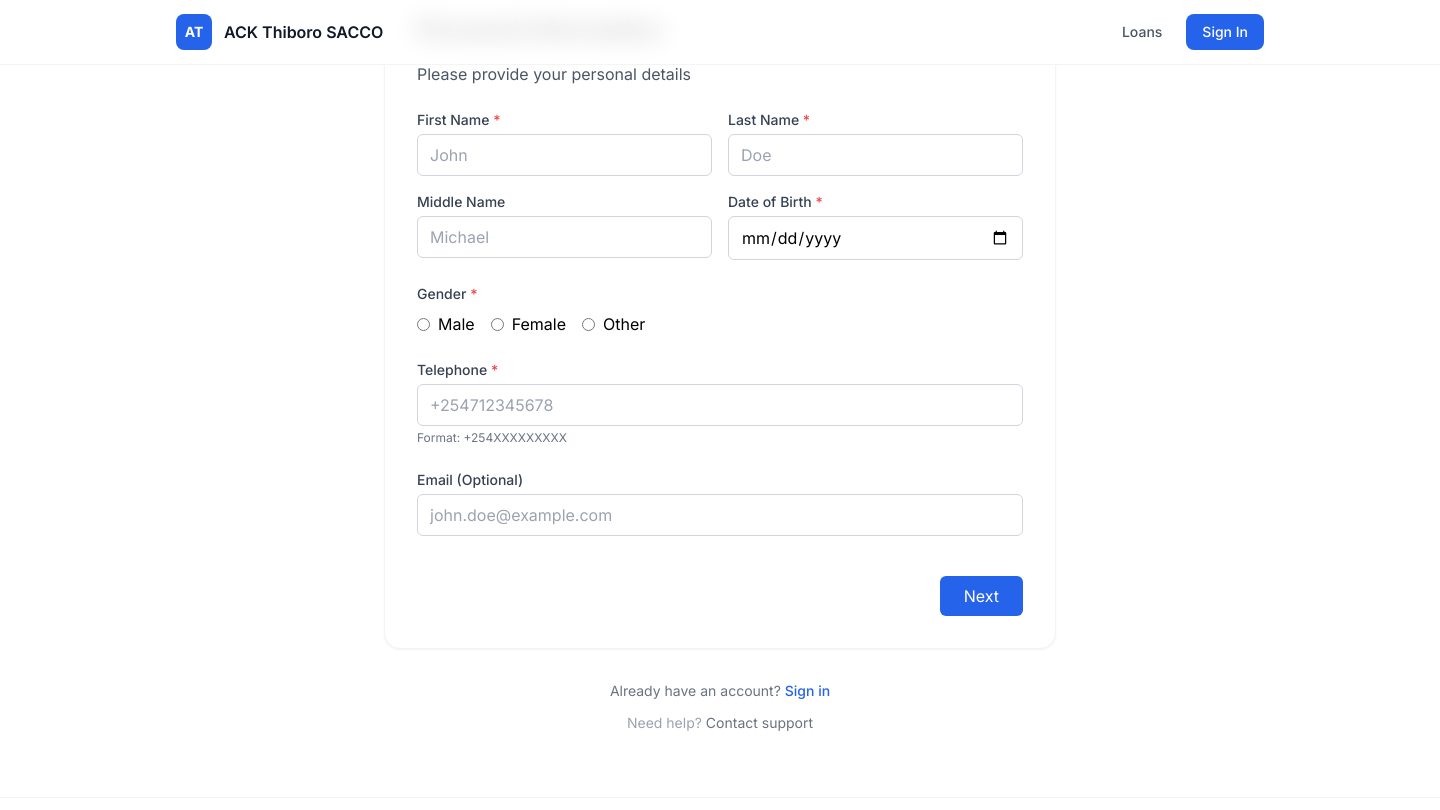
Test: Member Registration Wizard › Step 1 - Personal Information › should validate E.164 phone format
This screenshot has width=1440, height=810.
(page scrolled)
Type "0712345678" into the field labelled "Telephone *" at (720, 405), box x1=417 y1=384 x2=1023 y2=426
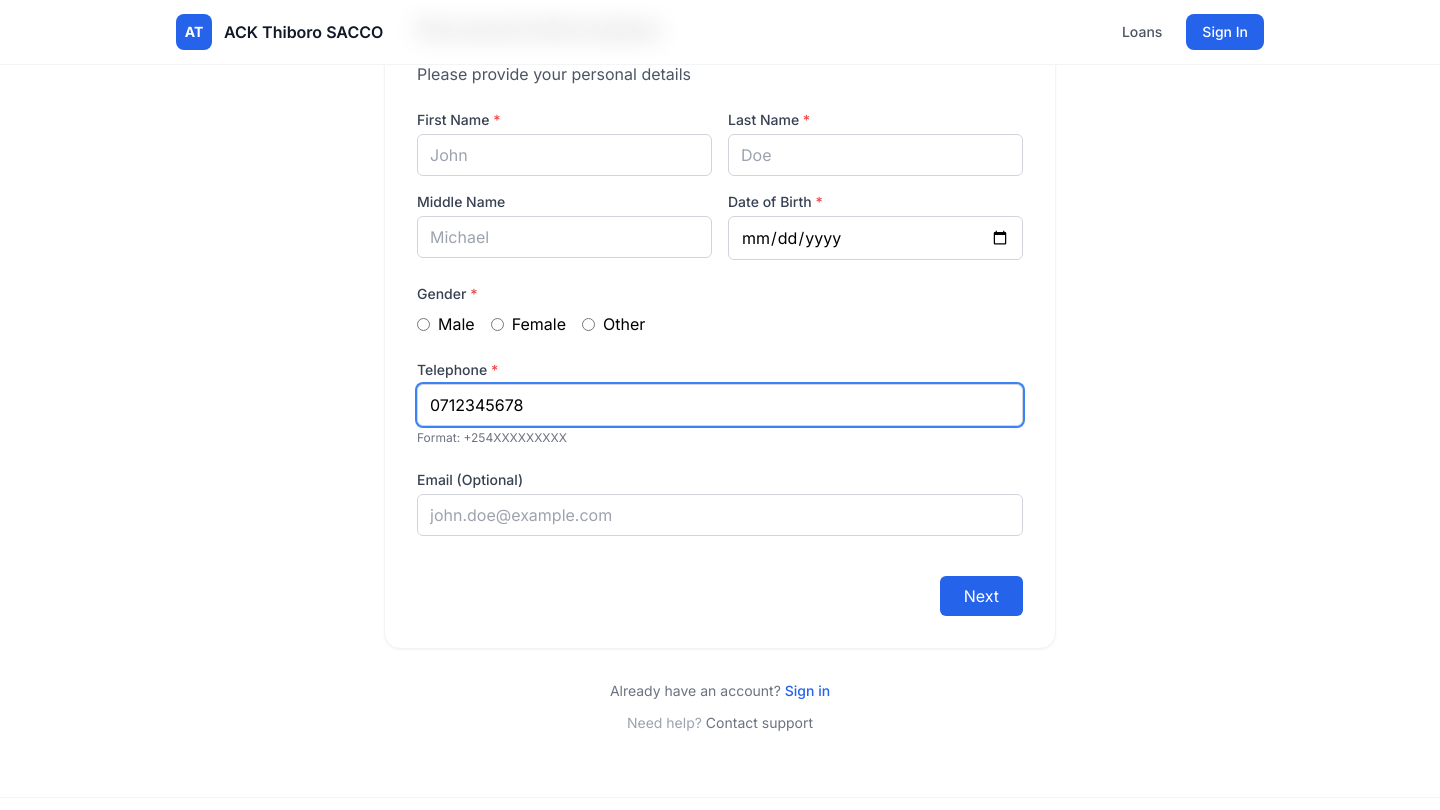
Click the button "Next" at (981, 596), box x1=940 y1=576 x2=1023 y2=616
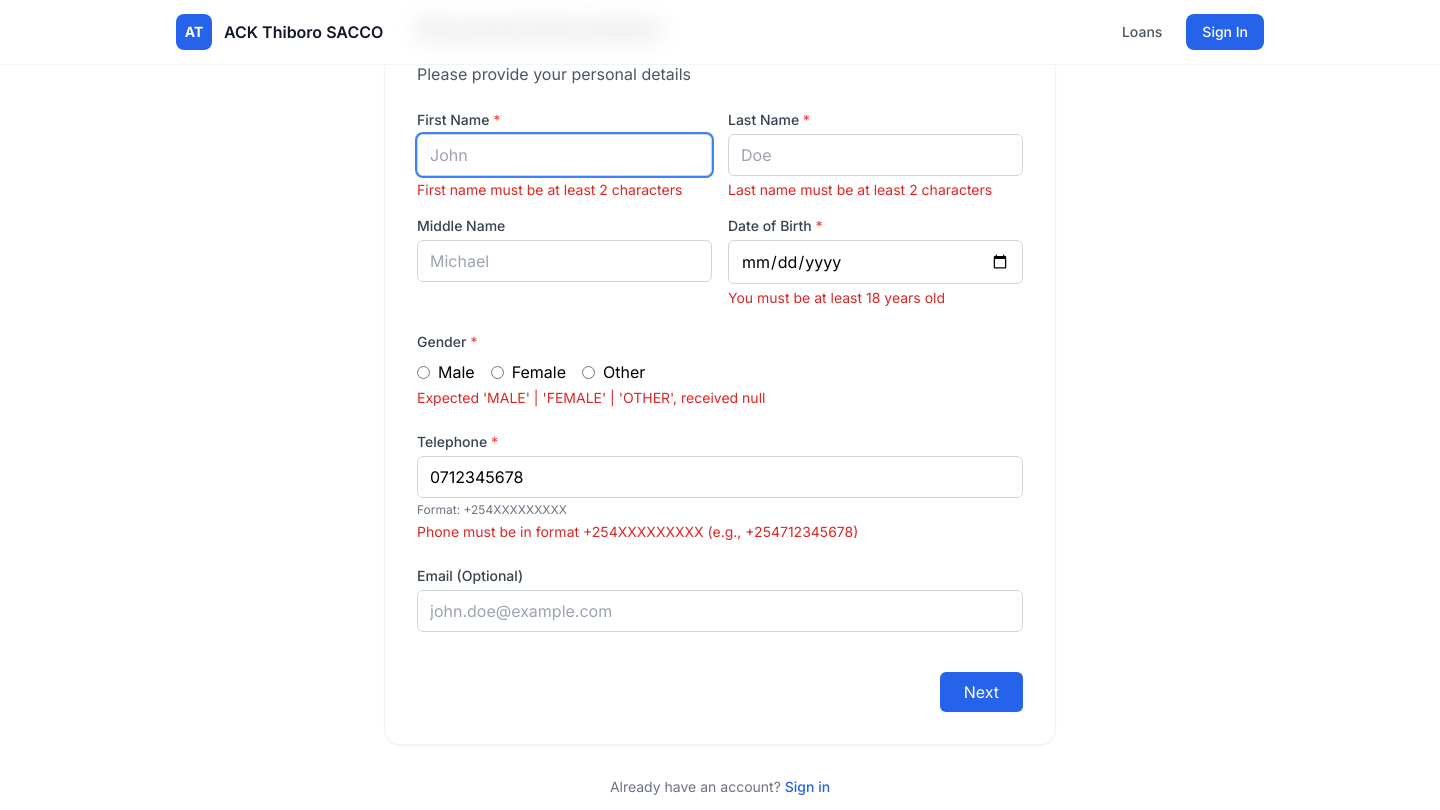
Expected: the text "Phone must be in format +254XXXXXXXXX (e.g., +254712345678)" is shown, x1=417 y1=523 x2=858 y2=540
